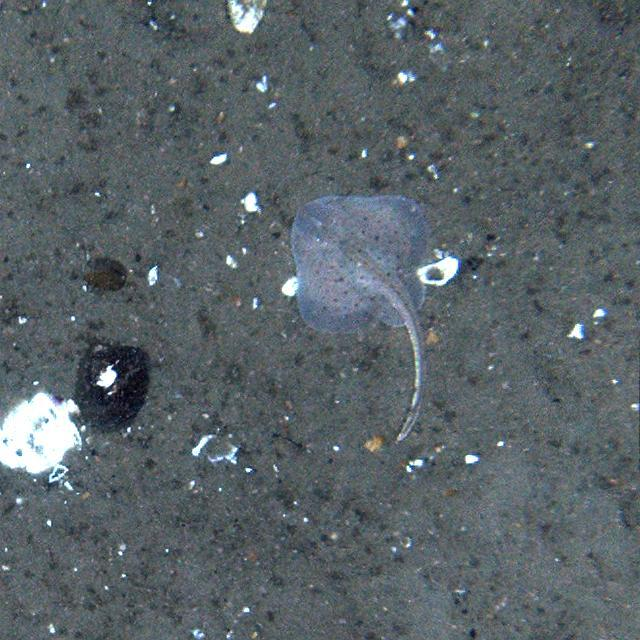skate: (284, 192, 438, 448)
